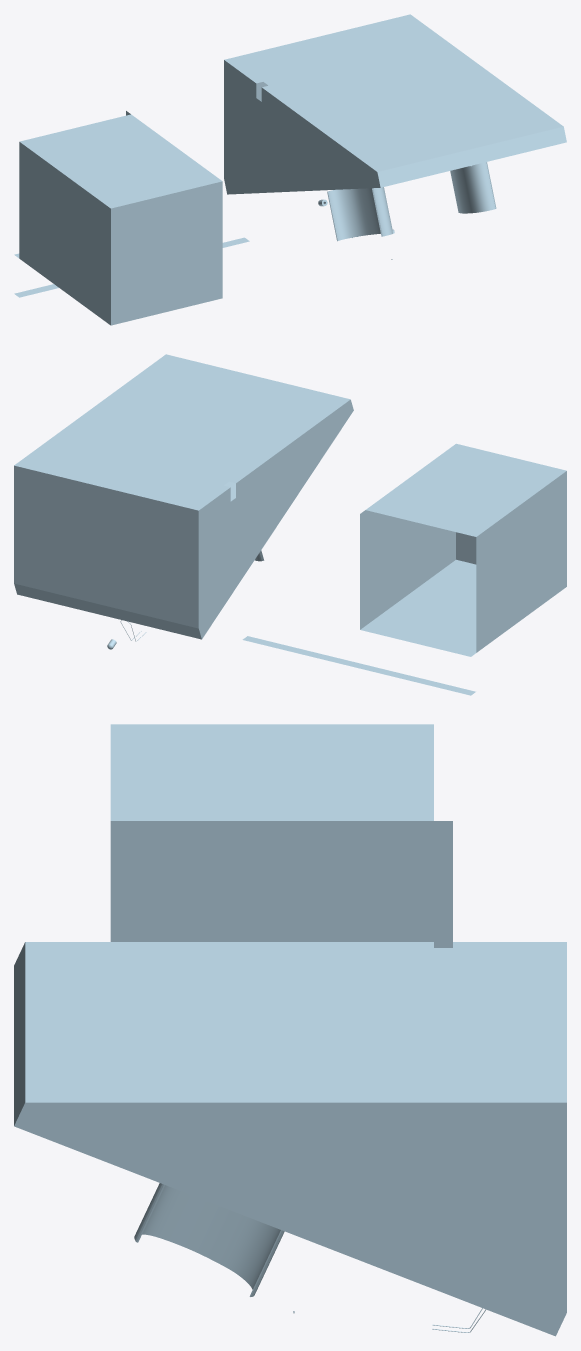
The picture shows the model from 3 angles, top to bottom: view 1: azimuth 30°, elevation 25°; view 2: azimuth 150°, elevation 25°; view 3: azimuth 270°, elevation 25°; orthographic projection. The views are drawn at different scales.
Bounding box in the file's own units: 1.17 × 0.4679 × 0.7389.
